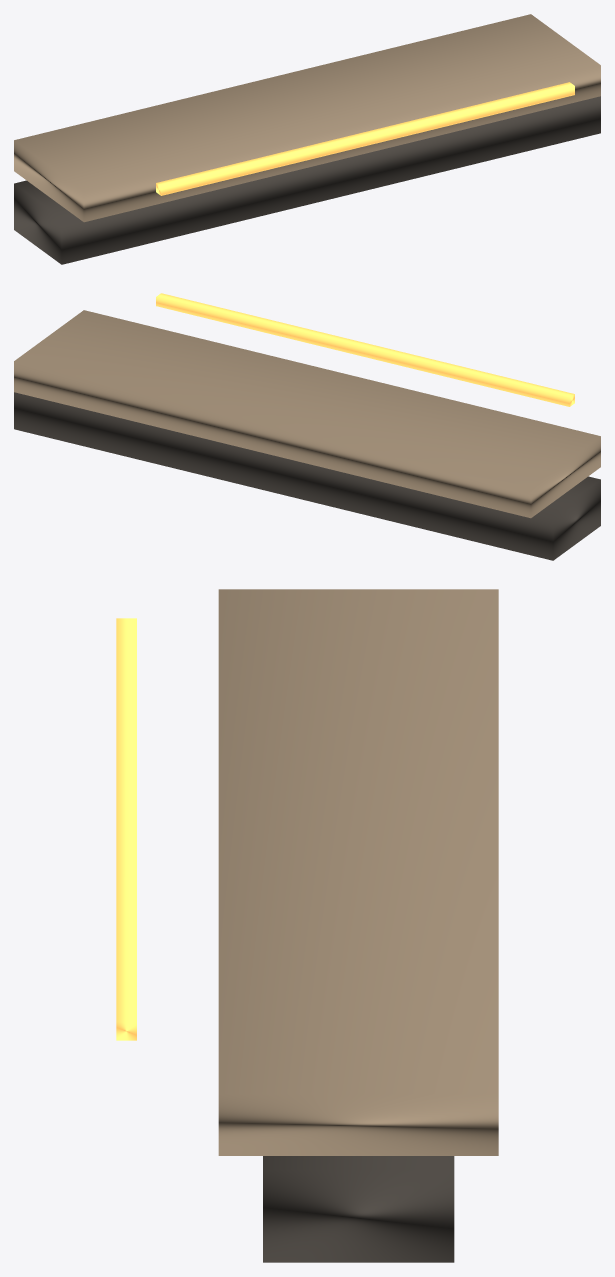
Rendered from jovian-harvester-transfer-bridge-lod2.glb.
3 renders of one model, top to bottom at view 1: azimuth 30°, elevation 25°; view 2: azimuth 150°, elevation 25°; view 3: azimuth 270°, elevation 25°, orthographic. The views are drawn at different scales.
Visible parts, largest first — view 1: jovian-harvester-transfer-bridge-deck, jovian-harvester-transfer-bridge-main, jovian-harvester-transfer-bridge-guide; view 2: jovian-harvester-transfer-bridge-deck, jovian-harvester-transfer-bridge-main, jovian-harvester-transfer-bridge-guide; view 3: jovian-harvester-transfer-bridge-deck, jovian-harvester-transfer-bridge-main, jovian-harvester-transfer-bridge-guide.
Part boxes in pixels (bbox=[...]): jovian-harvester-transfer-bridge-deck: bbox=[14, 14, 600, 222]; jovian-harvester-transfer-bridge-main: bbox=[14, 96, 600, 264]; jovian-harvester-transfer-bridge-guide: bbox=[156, 82, 574, 195]; jovian-harvester-transfer-bridge-deck: bbox=[14, 310, 600, 518]; jovian-harvester-transfer-bridge-main: bbox=[14, 392, 600, 560]; jovian-harvester-transfer-bridge-guide: bbox=[156, 293, 574, 406]; jovian-harvester-transfer-bridge-deck: bbox=[218, 589, 498, 1155]; jovian-harvester-transfer-bridge-main: bbox=[263, 1156, 454, 1262]; jovian-harvester-transfer-bridge-guide: bbox=[116, 618, 136, 1040].
Bounding box in the file's own units: 3.65 × 0.58 × 1.12.
